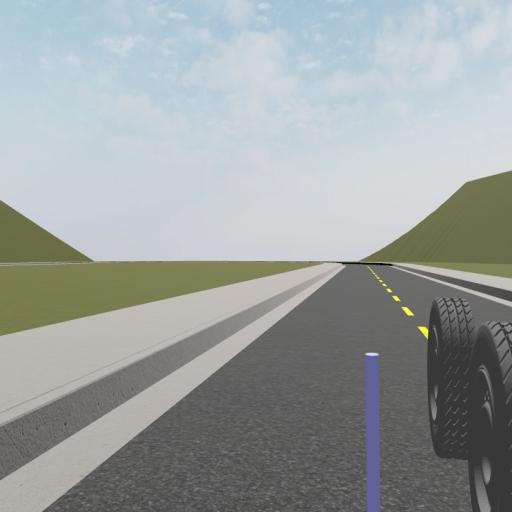ERP-42: (426, 295, 512, 512)
